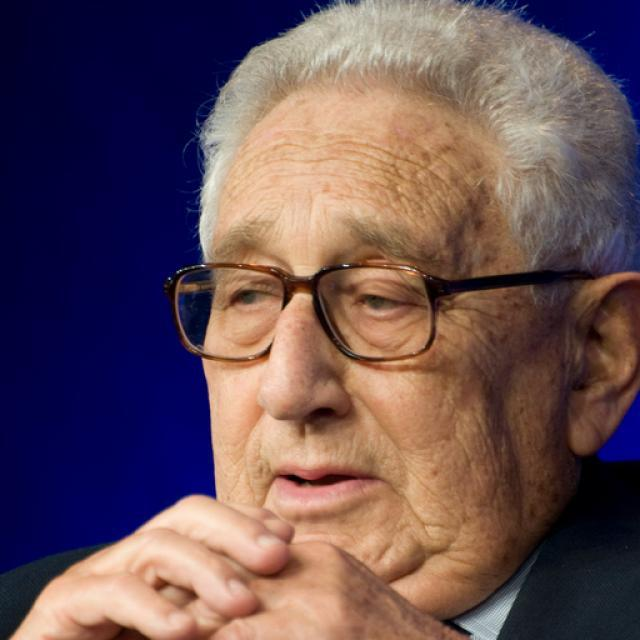sad: (198, 85, 571, 584)
